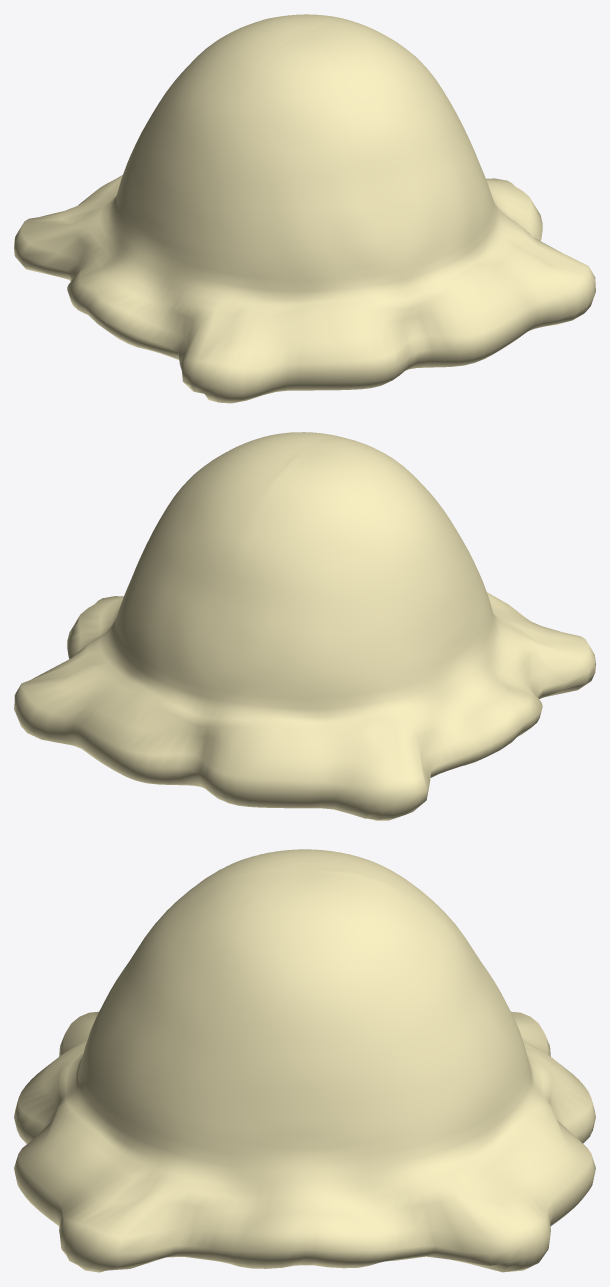
Rendered from ICE CREAM.fbx.
3 renders of one model, top to bottom at view 1: azimuth 30°, elevation 25°; view 2: azimuth 150°, elevation 25°; view 3: azimuth 270°, elevation 25°, orthographic. The views are drawn at different scales.
Visible parts, largest first — view 1: Sphere; view 2: Sphere; view 3: Sphere.
Part boxes in pixels (bbox=[...]): Sphere: bbox=[14, 14, 595, 403]; Sphere: bbox=[14, 432, 595, 820]; Sphere: bbox=[14, 849, 595, 1272].
Size of the model in its own units: 197 by 112 by 194.
